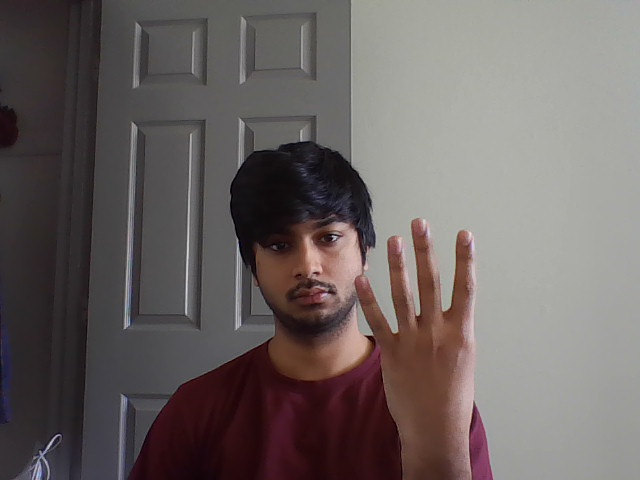four: (352, 213, 502, 349)
